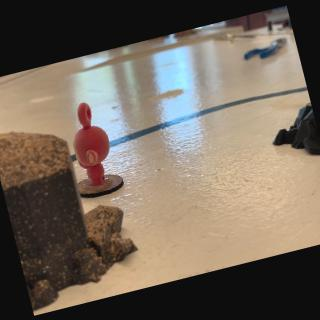teletubby: (73, 102, 109, 187)
